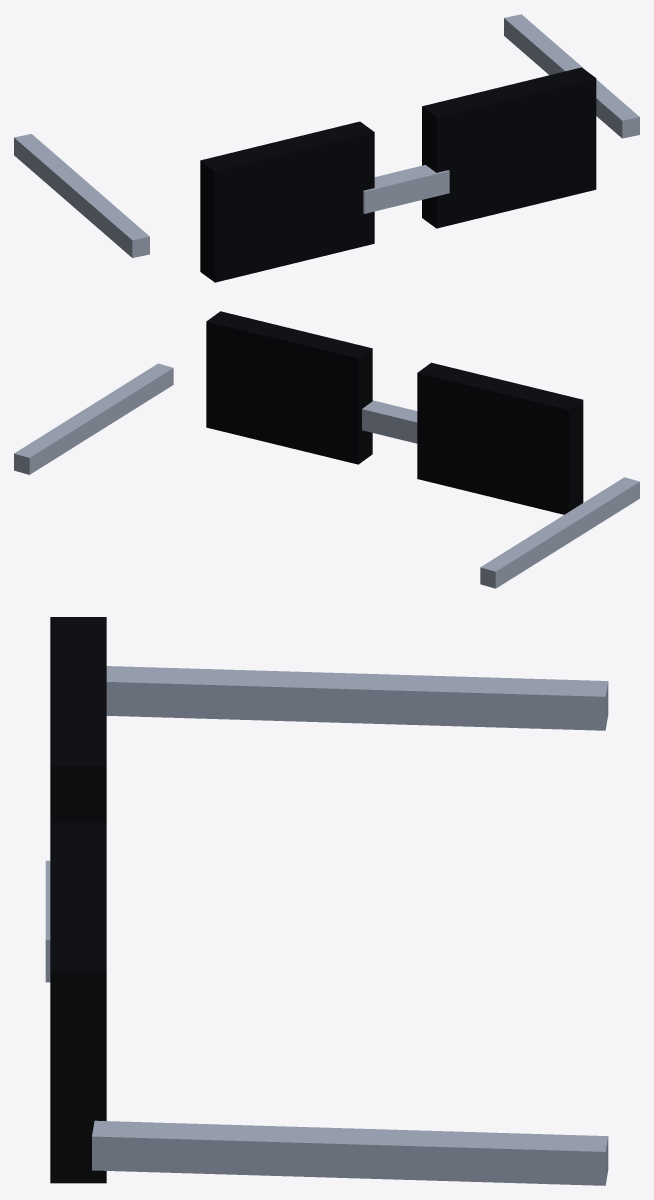
The model's file is head_cool_1.glb.
3 renders of one model, top to bottom at view 1: azimuth 30°, elevation 25°; view 2: azimuth 150°, elevation 25°; view 3: azimuth 270°, elevation 25°, orthographic. The views are drawn at different scales.
Size of the model in its own units: 0.5284 by 0.1075 by 0.2583.
